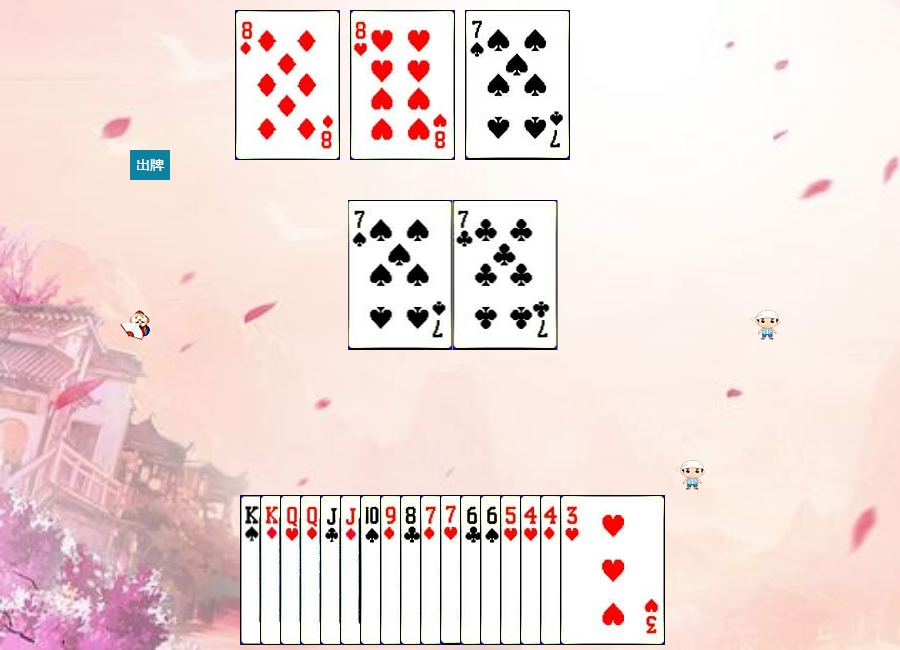10~4: (360, 495, 465, 645)
11~1: (340, 495, 445, 645)
11~2: (320, 495, 425, 645)
12~1: (300, 495, 405, 645)
12~3: (280, 495, 385, 645)
13~1: (260, 495, 365, 645)
13~4: (240, 495, 345, 645)
3~3: (560, 495, 665, 645)
4~1: (540, 495, 645, 645)
4~3: (520, 495, 625, 645)
5~3: (500, 495, 605, 645)
6~2: (460, 495, 565, 645)
6~4: (480, 495, 585, 645)
7~1: (420, 495, 525, 645)
7~2: (453, 200, 558, 350)
7~3: (440, 495, 545, 645)
7~4: (465, 10, 570, 160), (348, 200, 453, 350)
8~1: (235, 10, 340, 160)
8~2: (400, 495, 505, 645)
8~3: (350, 10, 455, 160)
9~1: (380, 495, 485, 645)
